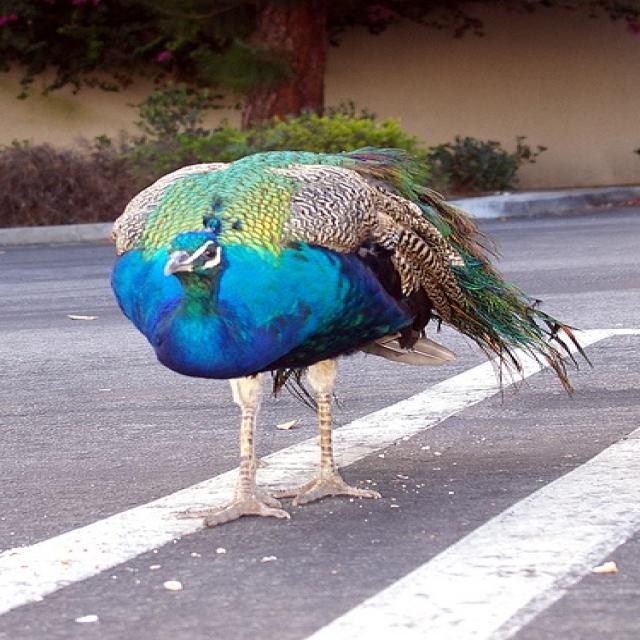bird: (104, 144, 599, 528)
